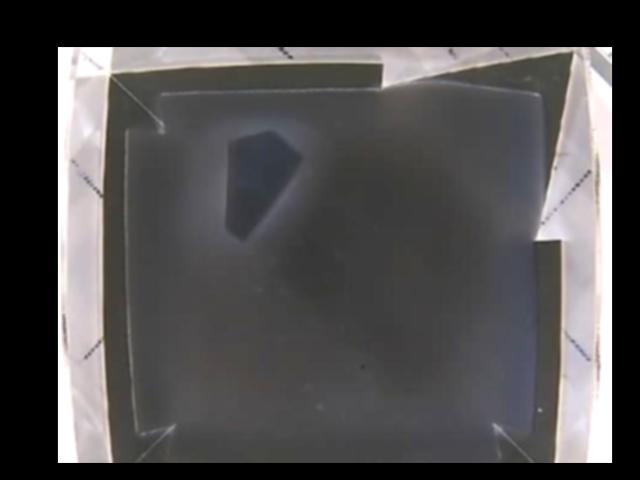Mooli: (223, 130, 303, 244)
